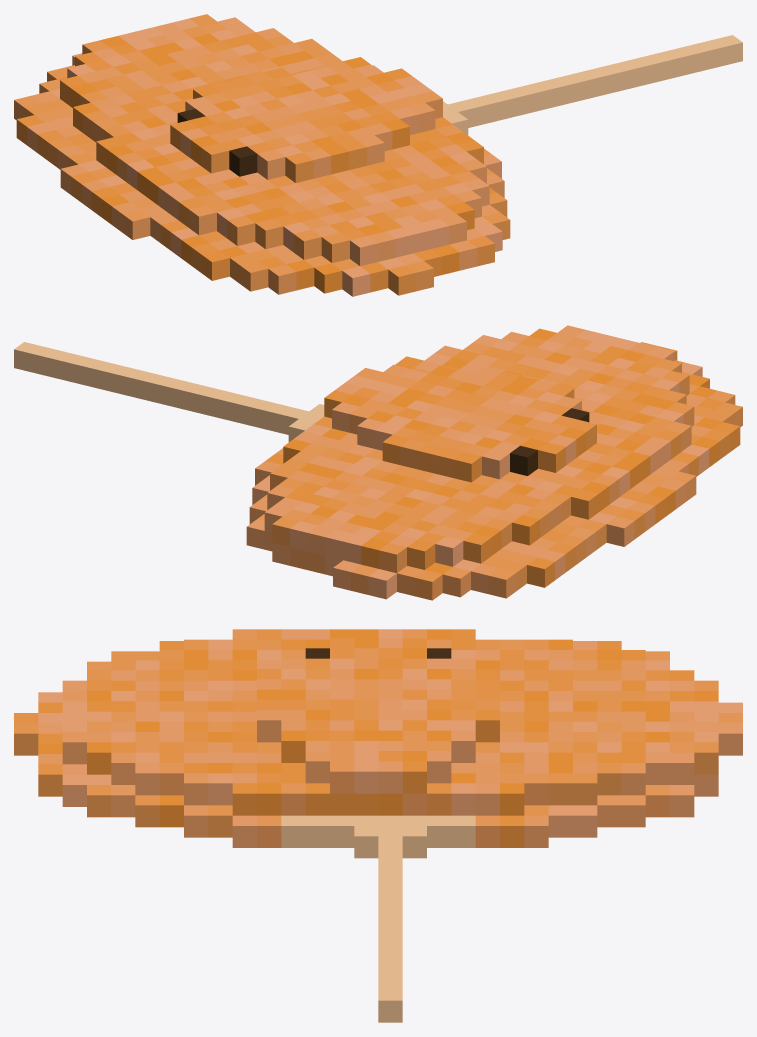
Rendered from Sting_Ray.obj.
3 views of the same model, one above another, from view 1: azimuth 30°, elevation 25°; view 2: azimuth 150°, elevation 25°; view 3: azimuth 270°, elevation 25° (orthographic). The views are drawn at different scales.
Size of the model in its own units: 3.6 by 0.3 by 3.
Materials: 1 (1 with a texture image).
